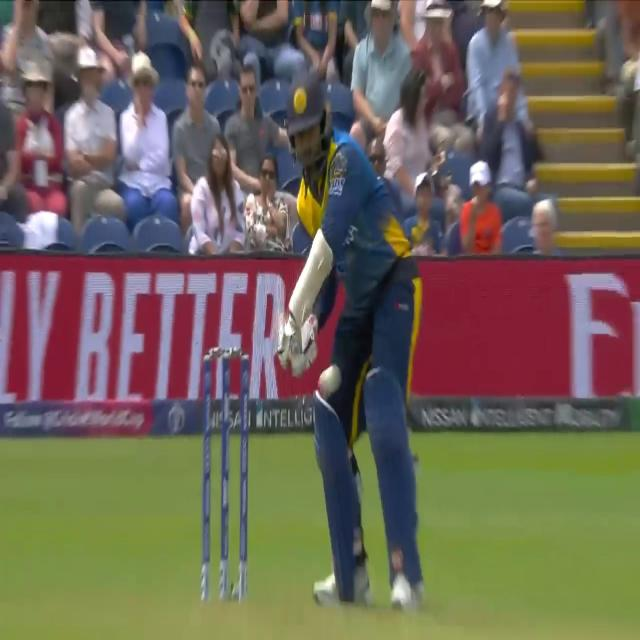ball: (312, 358, 346, 408)
